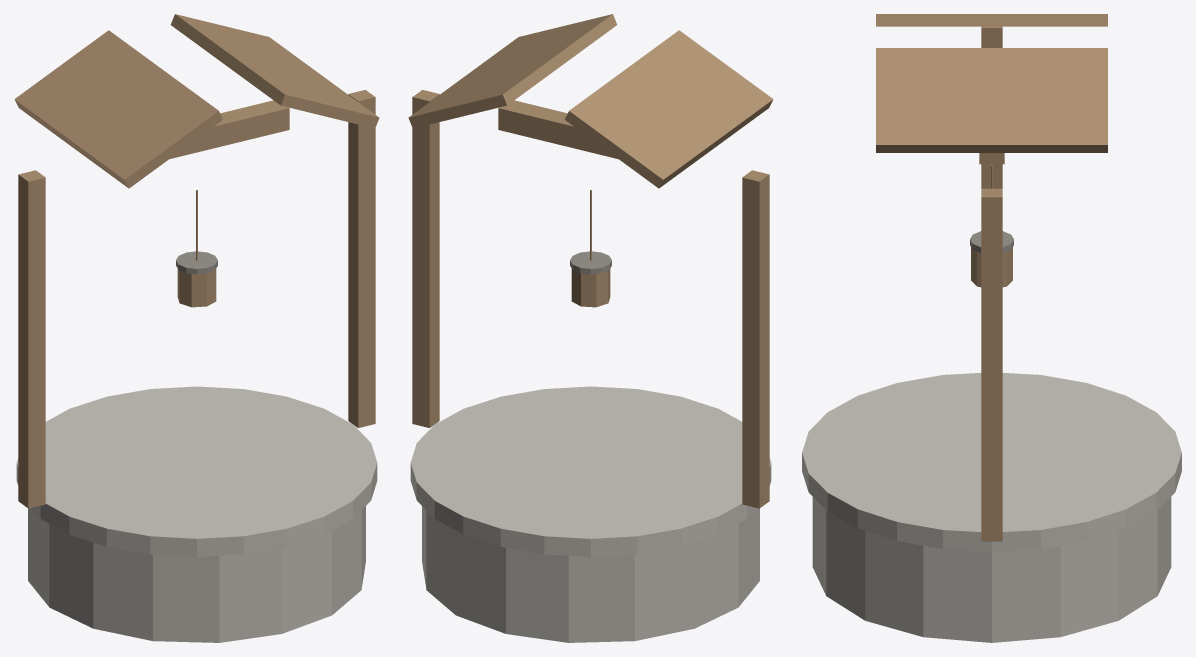
Rendered from VillageWell.fbx.
3 renders of one model, left to right at view 1: azimuth 30°, elevation 25°; view 2: azimuth 150°, elevation 25°; view 3: azimuth 270°, elevation 25°, orthographic. The views are drawn at different scales.
Visible parts, largest first — view 1: VillageWell; view 2: VillageWell; view 3: VillageWell.
Part boxes in pixels (left/top/right/bottom): VillageWell: left=14, top=14, right=379, bottom=642; VillageWell: left=408, top=14, right=773, bottom=642; VillageWell: left=802, top=14, right=1181, bottom=642.
Size of the model in its own units: 200 by 280 by 180.
